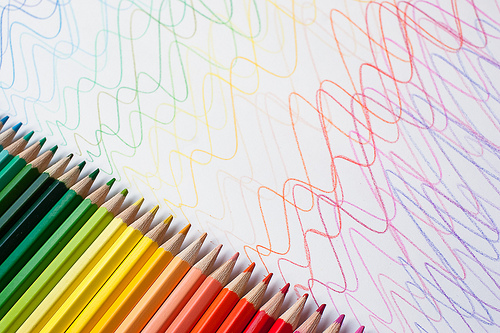pen_tip: (52, 159, 91, 184)
